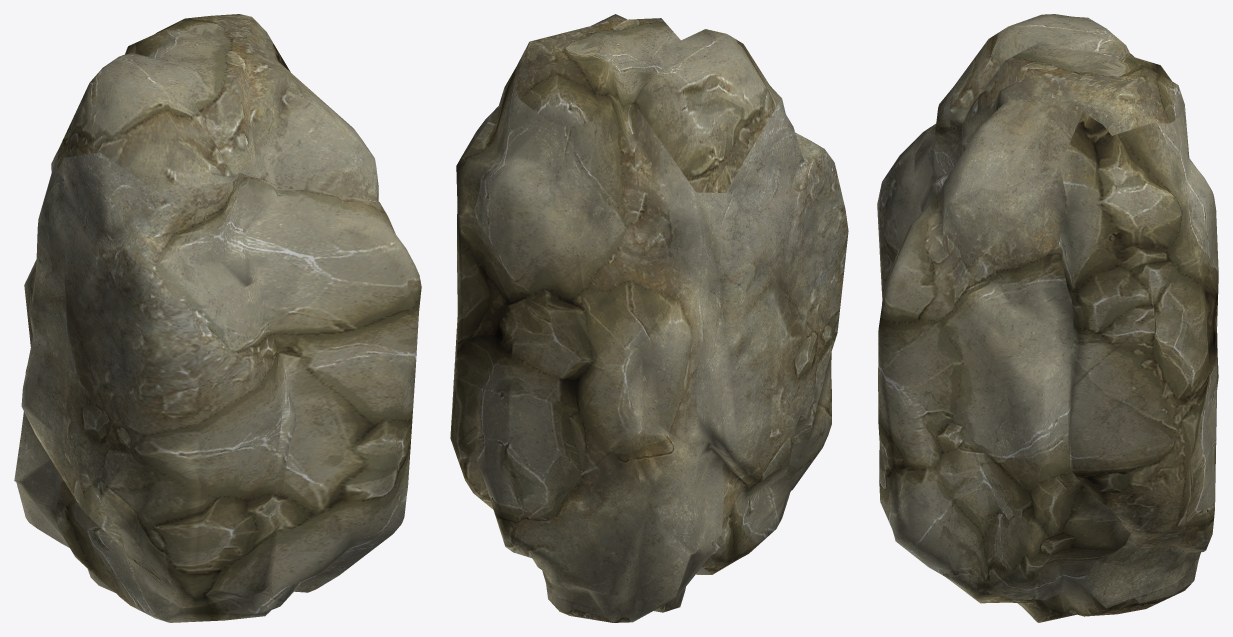
Rendered from cliff3_root.fbx.
3 views of the same model, side by side, from view 1: azimuth 30°, elevation 25°; view 2: azimuth 150°, elevation 25°; view 3: azimuth 270°, elevation 25° (orthographic).
Parts seen in each view (by area): view 1: cliff3_sh_4, cliff3_sh_5, cliff3_sh_1, cliff3_sh_2, cliff3_sh_3; view 2: cliff3_sh_2, cliff3_sh_1, cliff3_sh_3, cliff3_sh_4, cliff3_sh_5; view 3: cliff3_sh_1, cliff3_sh_5, cliff3_sh_3, cliff3_sh_4, cliff3_sh_2.
Part boxes in pixels (<box>): cliff3_sh_4: <box>58,68,418,455</box>; cliff3_sh_5: <box>50,274,421,617</box>; cliff3_sh_1: <box>102,14,407,251</box>; cliff3_sh_2: <box>18,98,82,454</box>; cliff3_sh_3: <box>14,445,330,622</box>; cliff3_sh_2: <box>460,96,785,524</box>; cliff3_sh_1: <box>455,14,698,379</box>; cliff3_sh_3: <box>450,390,790,622</box>; cliff3_sh_4: <box>691,29,848,392</box>; cliff3_sh_5: <box>453,336,836,492</box>; cliff3_sh_1: <box>896,23,1218,425</box>; cliff3_sh_5: <box>878,299,1199,580</box>; cliff3_sh_3: <box>941,424,1216,622</box>; cliff3_sh_4: <box>877,14,1099,300</box>; cliff3_sh_2: <box>1199,295,1218,428</box>.
Size of the model in its own units: 54.54 by 99.5 by 56.35.
Materials: 1 (1 with a texture image).
